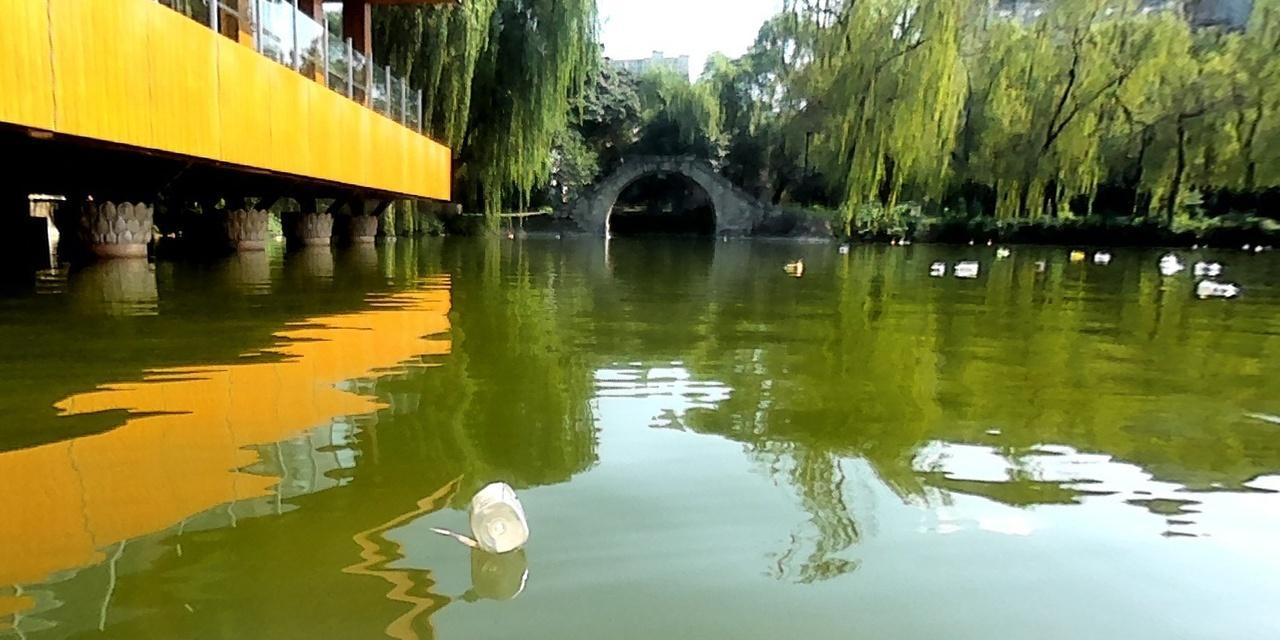bottle: (467, 477, 530, 554), (1195, 280, 1237, 296), (1160, 253, 1180, 273), (1193, 259, 1218, 274), (952, 260, 978, 274), (781, 260, 802, 275), (927, 260, 945, 274), (1094, 251, 1110, 263), (1068, 249, 1085, 259), (994, 246, 1009, 257), (837, 244, 849, 253)
